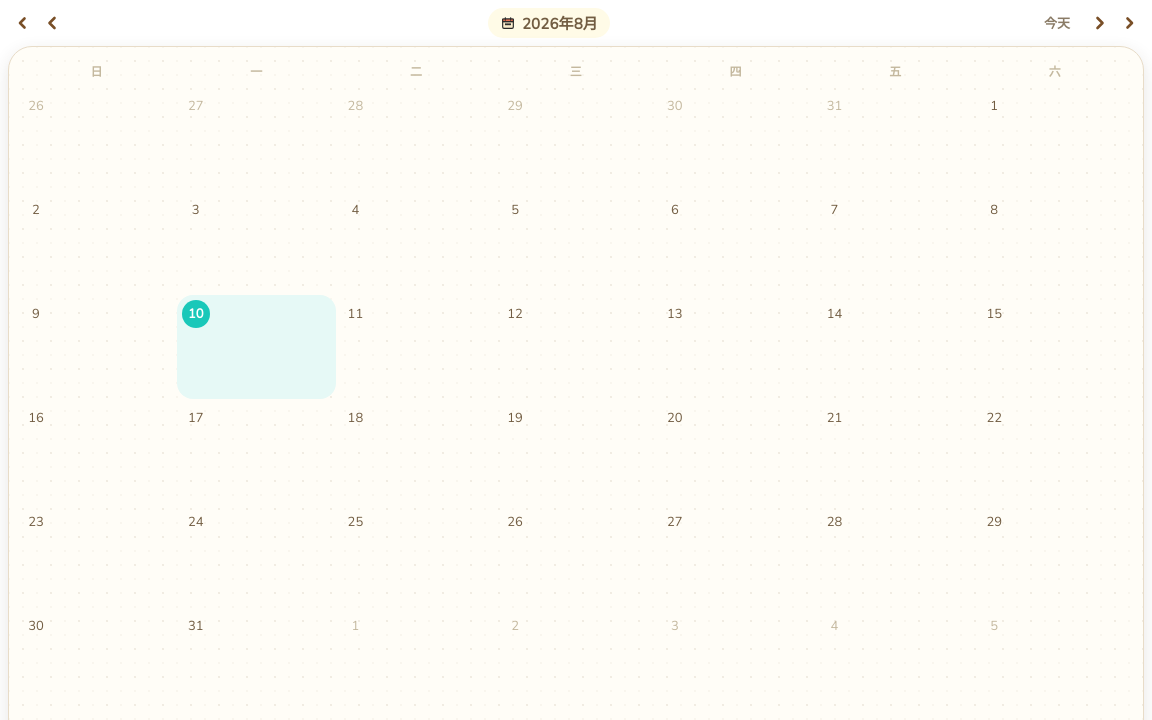
it: Calendar › interaction › 非受控面板自己翻月（上/下月与上/下年）
This screenshot has width=1152, height=720.
Click the button named "下个月": [1100, 23] box [1086,9,1114,37]
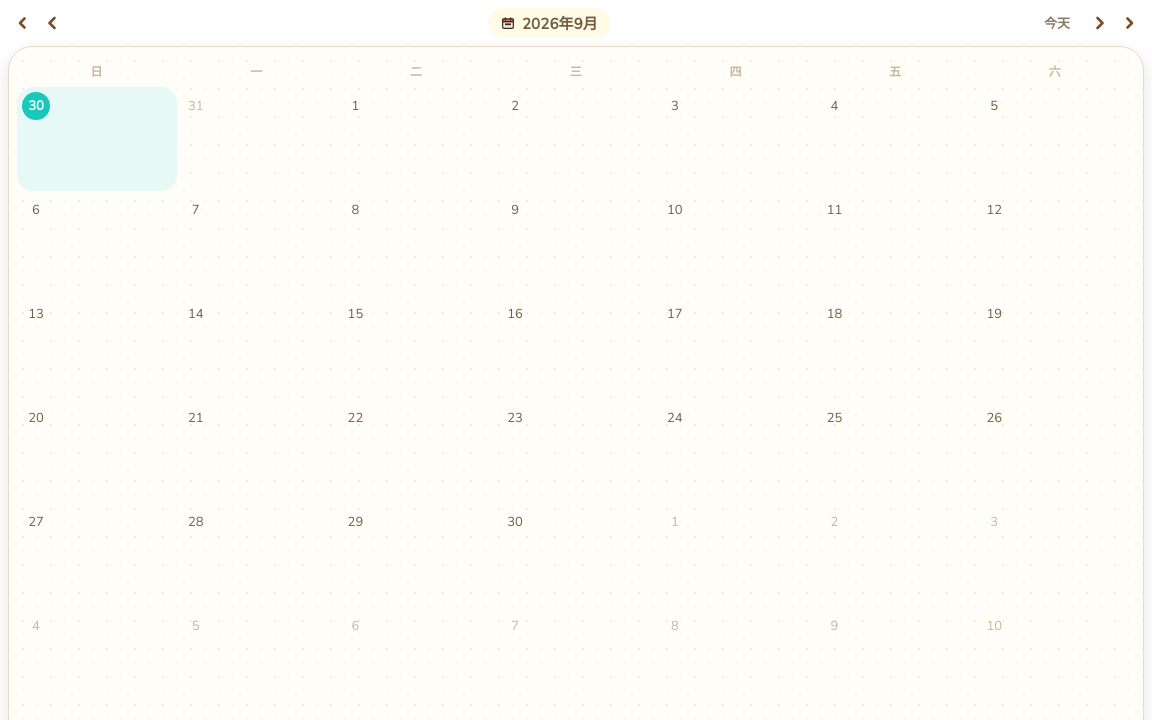
Expected: the element with class "animal-calendar__month-label" reads "2026年9月", [522,14,598,34]
Click the button named "下一年": [1130, 23] box [1116,9,1144,37]
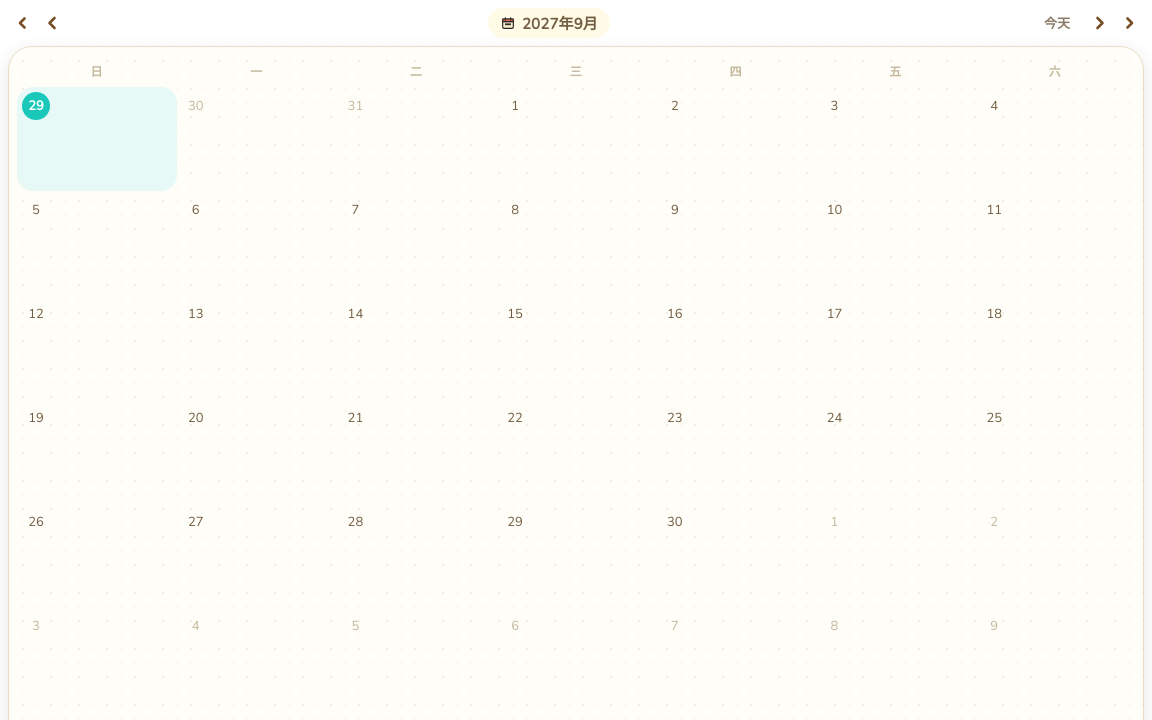
Expected: the element with class "animal-calendar__month-label" reads "2027年9月", [522,14,598,34]
Click the button named "上个月": [52, 23] box [38,9,66,37]
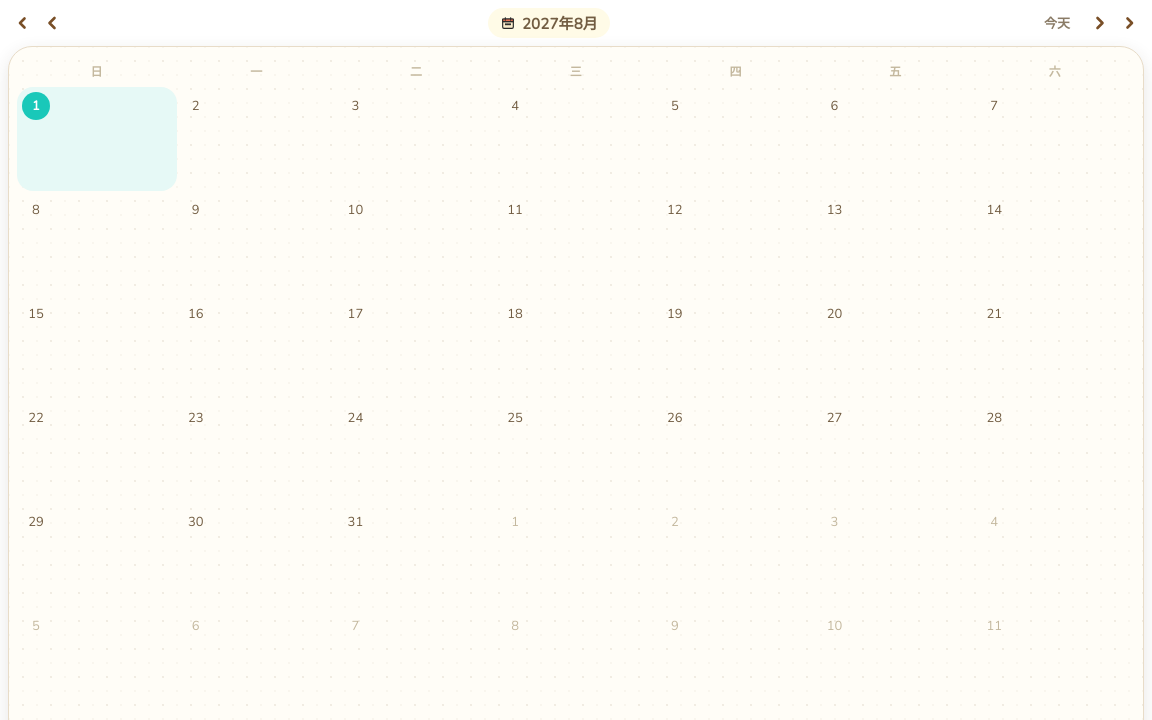
Expected: the element with class "animal-calendar__month-label" reads "2027年8月", [522,14,598,34]
Click the button named "上一年": [22, 23] box [8,9,36,37]
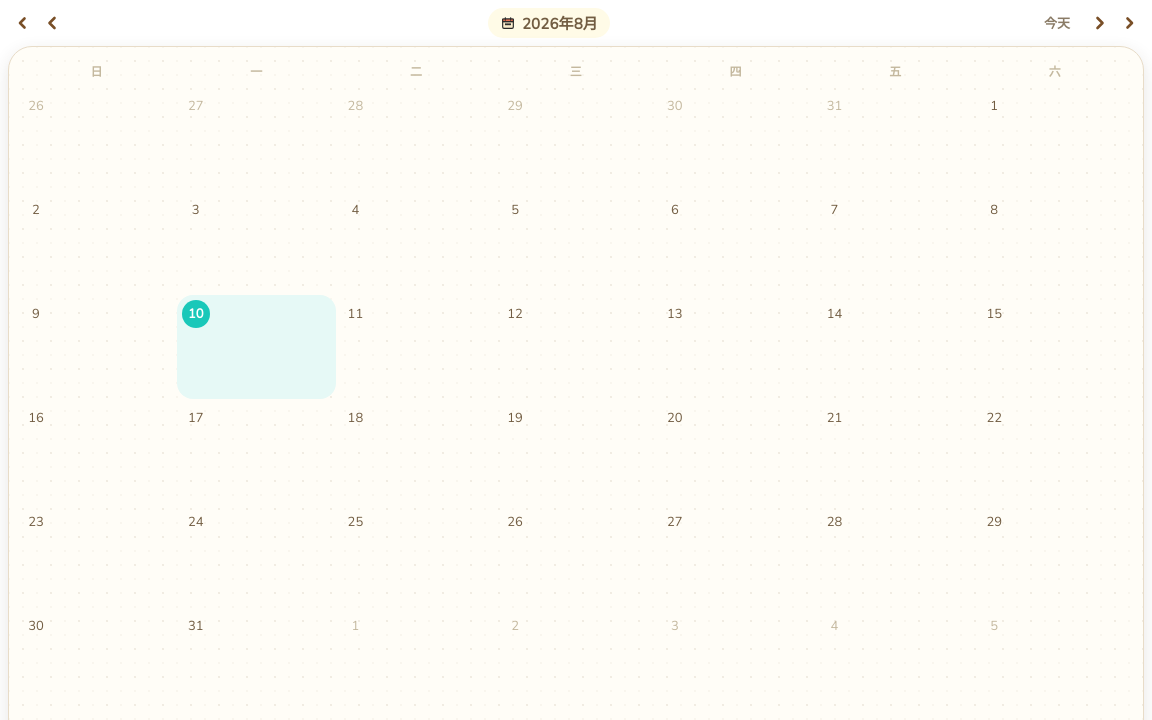
Expected: the element with class "animal-calendar__month-label" reads "2026年8月", [522,14,598,34]
